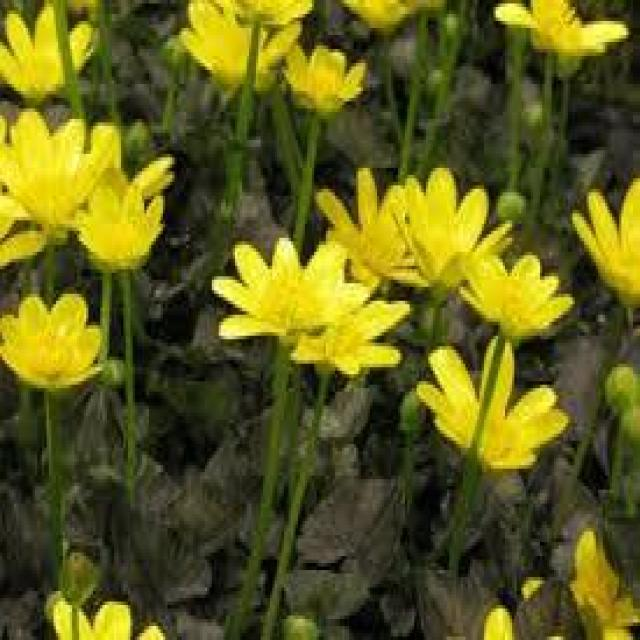organic waste: (311, 159, 511, 299), (411, 322, 566, 472), (0, 110, 142, 240), (213, 231, 362, 332), (271, 274, 402, 386), (173, 7, 318, 98), (461, 234, 558, 336), (4, 295, 108, 390), (78, 173, 169, 264), (501, 0, 622, 66), (278, 45, 374, 119), (0, 15, 95, 89)
